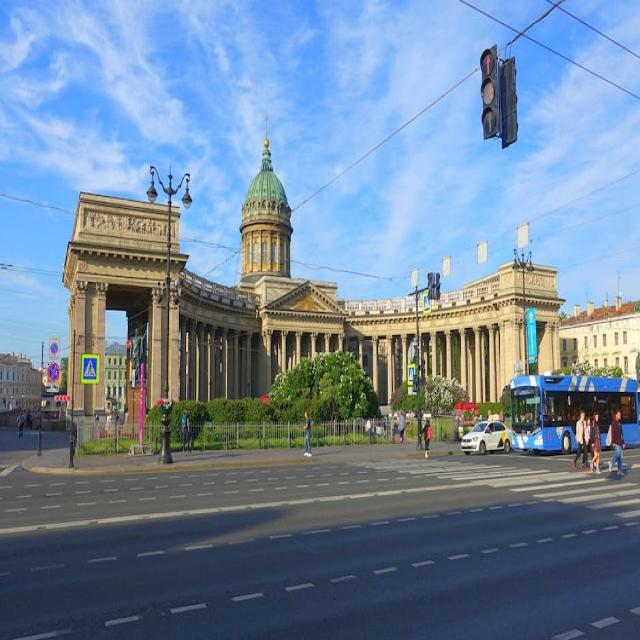no entry: (127, 341, 131, 348)
no stopping: (48, 362, 59, 381)
